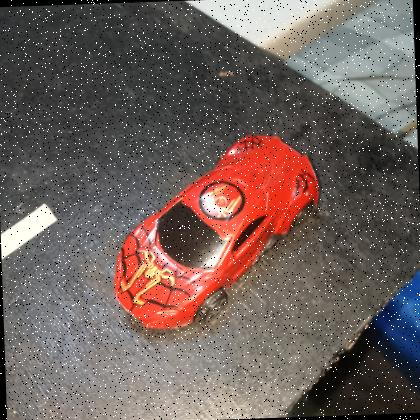Car: (112, 131, 326, 332)
